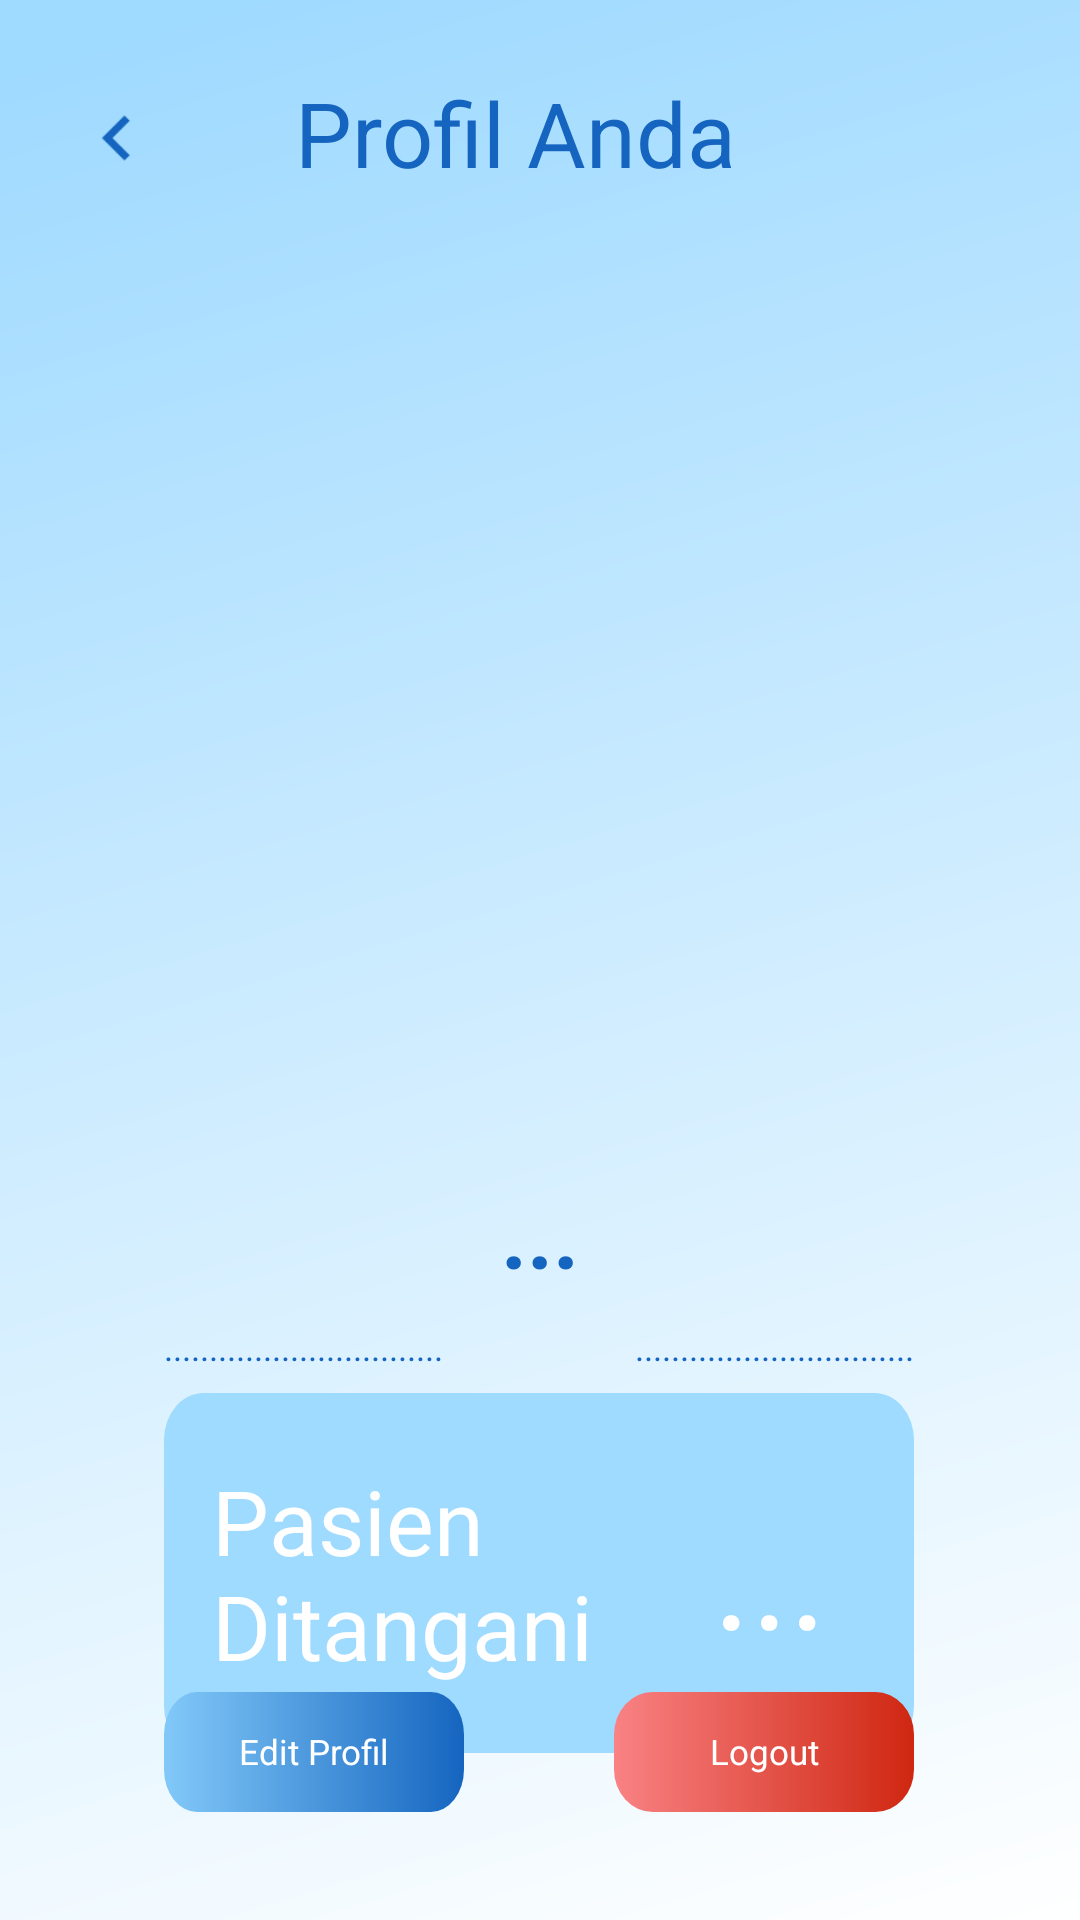

Where icons sit on this 1080px×1920px app screen, as (x1, y1, x2, y2):
back: (102, 115, 130, 161)
